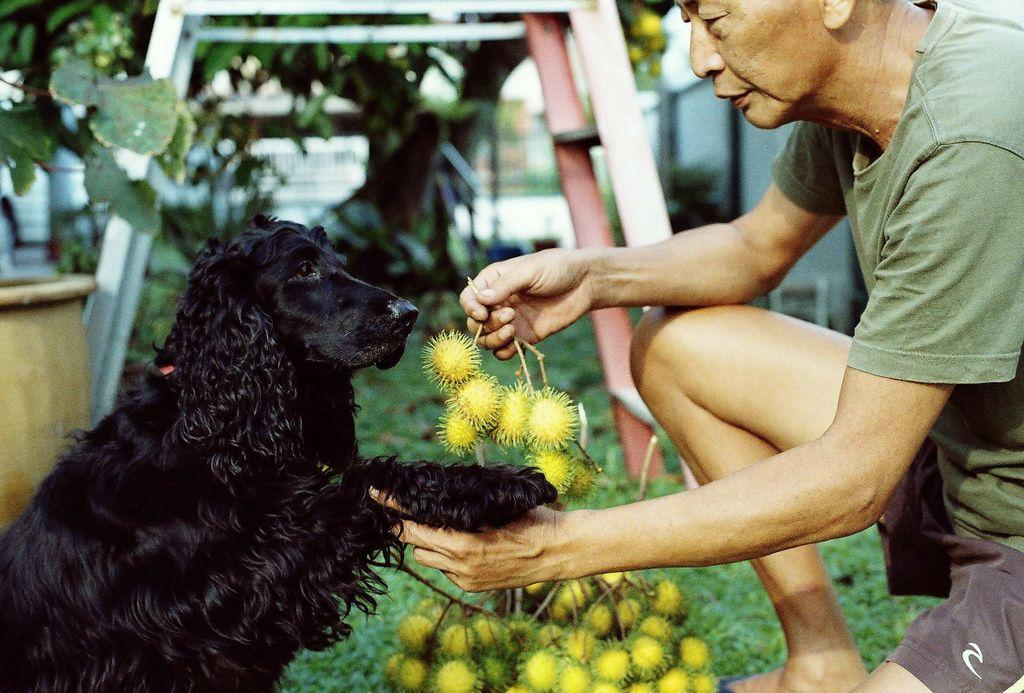face: (674, 4, 816, 128)
